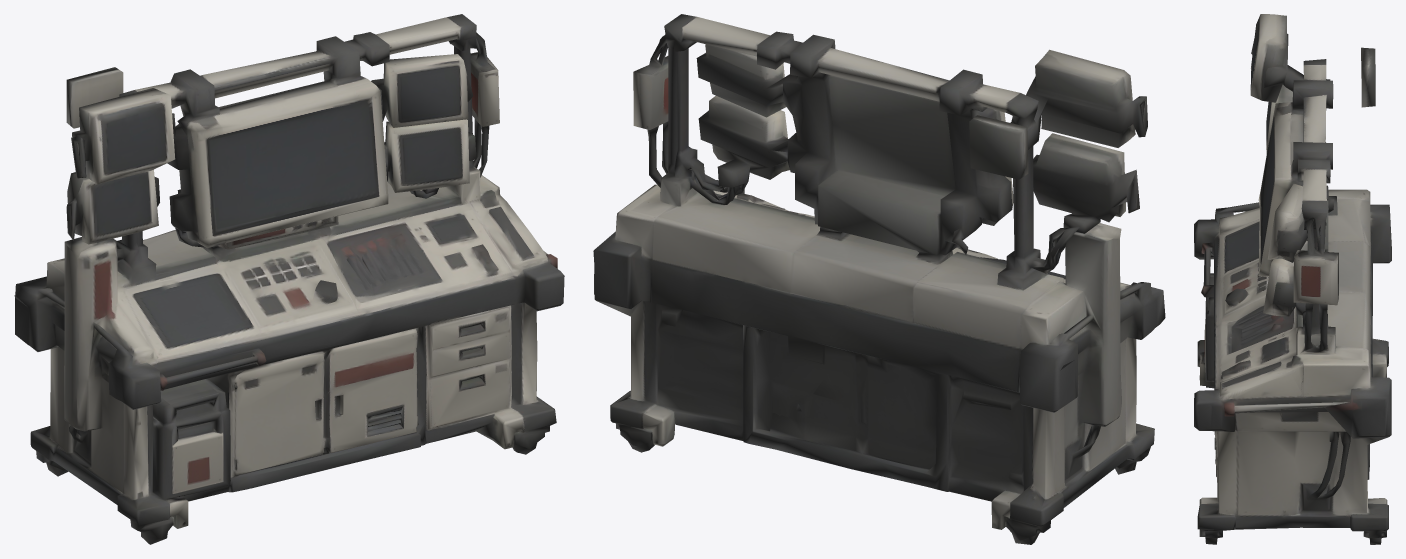
Rendered from ENV_ALL_132_v001_RAW.glb.glb.
3 views of the same model, side by side, from view 1: azimuth 30°, elevation 25°; view 2: azimuth 150°, elevation 25°; view 3: azimuth 270°, elevation 25° (orthographic). The views are drawn at different scales.
Visible parts, largest first — view 1: tripo_node_4e5777f3-c50b-415e-a016-0e7049cab43a; view 2: tripo_node_4e5777f3-c50b-415e-a016-0e7049cab43a; view 3: tripo_node_4e5777f3-c50b-415e-a016-0e7049cab43a.
Boxes of the visible parts, box(x1,y1,x2,y2) form: tripo_node_4e5777f3-c50b-415e-a016-0e7049cab43a: box(14, 14, 564, 544); tripo_node_4e5777f3-c50b-415e-a016-0e7049cab43a: box(593, 14, 1165, 544); tripo_node_4e5777f3-c50b-415e-a016-0e7049cab43a: box(1194, 14, 1391, 544).
Size of the model in its own units: 0.9821 by 0.8423 by 0.4163.
Materials: 1 (1 with a texture image).
